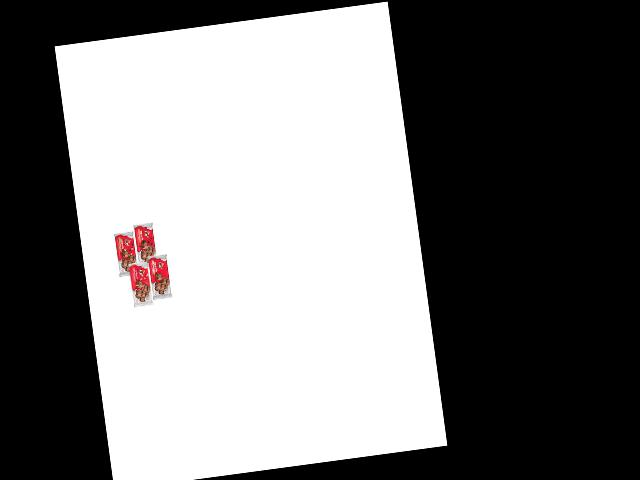chocolate: (111, 227, 142, 280)
